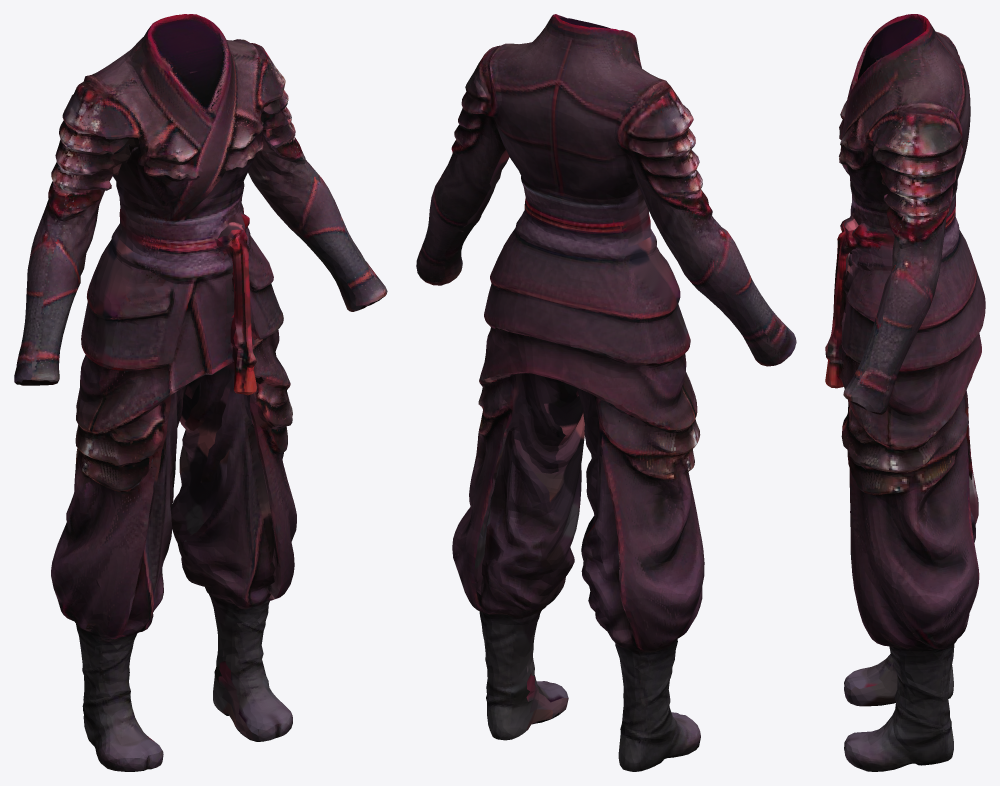
File: mitsue_shinobi_r_source.glb
3 views of the same model, side by side, from view 1: azimuth 30°, elevation 25°; view 2: azimuth 150°, elevation 25°; view 3: azimuth 270°, elevation 25° (orthographic). The views are drawn at different scales.
Visible parts, largest first — view 1: temp_mesh.ply; view 2: temp_mesh.ply; view 3: temp_mesh.ply.
Boxes of the visible parts, x1,y1,x2,y2 form: temp_mesh.ply: [14, 14, 387, 771]; temp_mesh.ply: [416, 14, 796, 771]; temp_mesh.ply: [825, 14, 985, 771].
Size of the model in its own units: 1.07 by 1.97 by 0.4082.
Materials: 1 (1 with a texture image).
